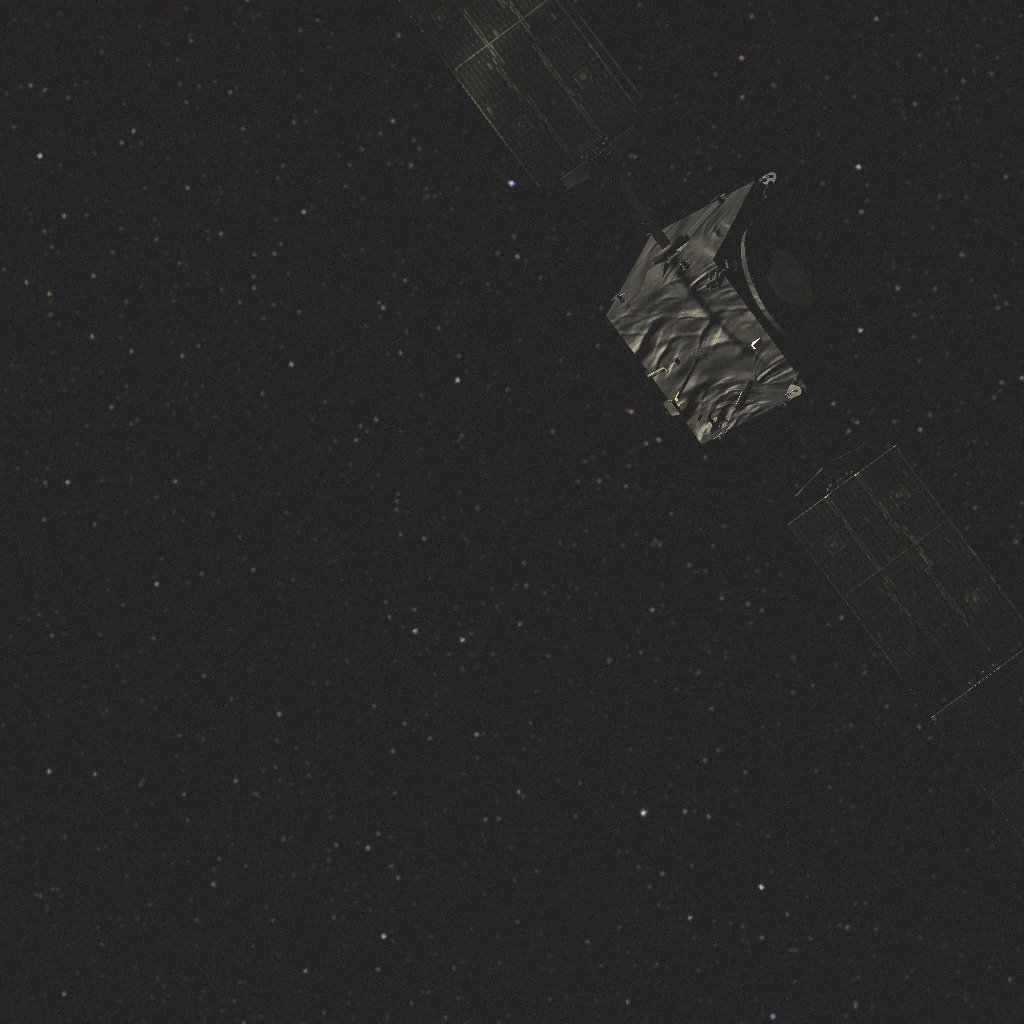smart_1: (399, 0, 1024, 842)
